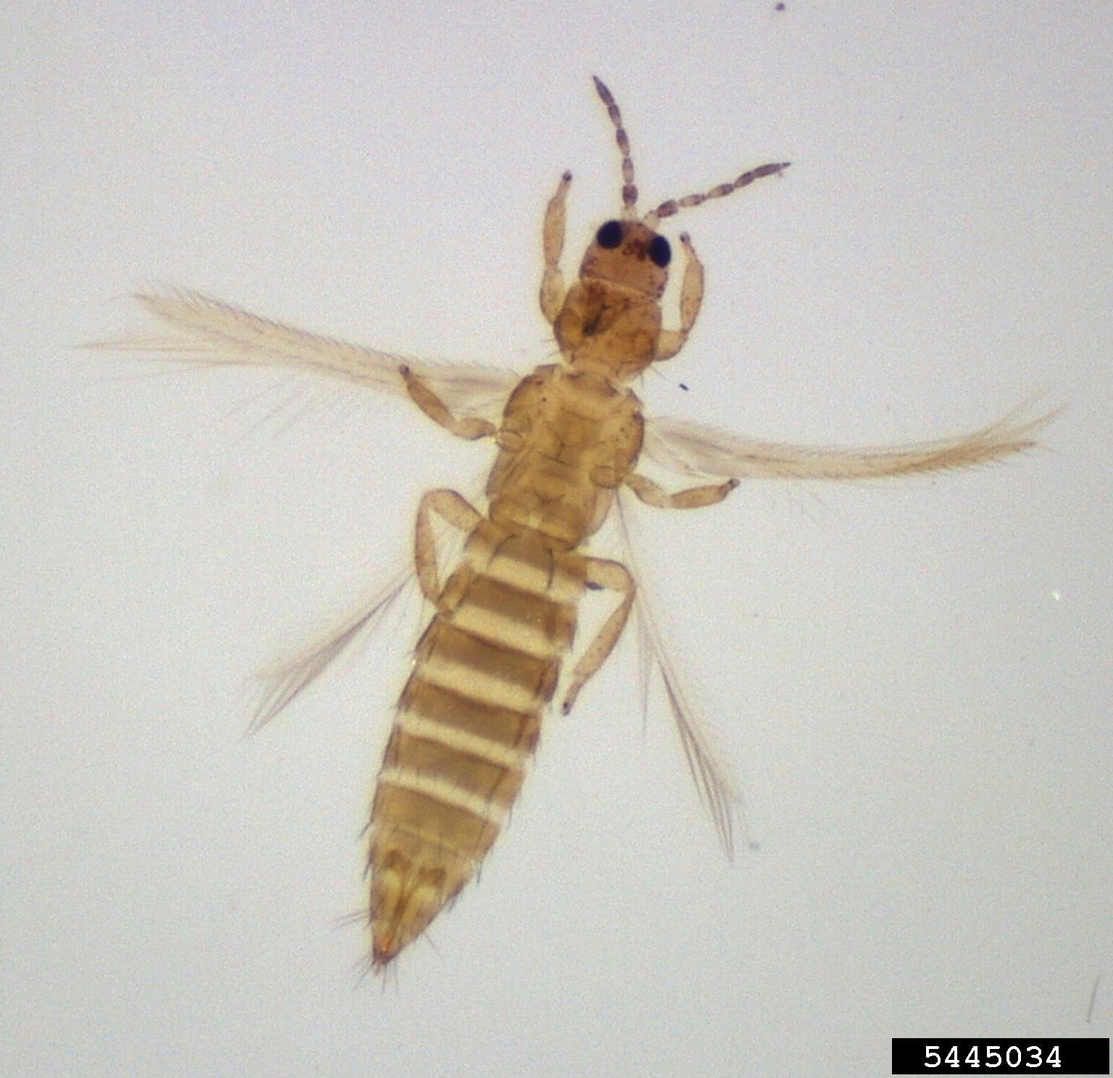Thripidae: (92, 78, 1067, 995)
